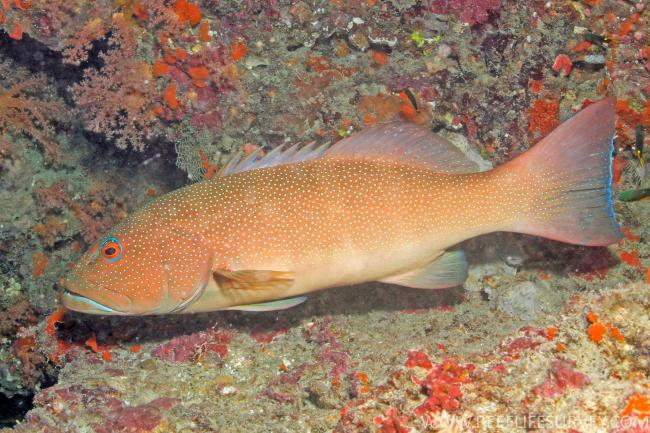fish: (61, 94, 624, 317)
